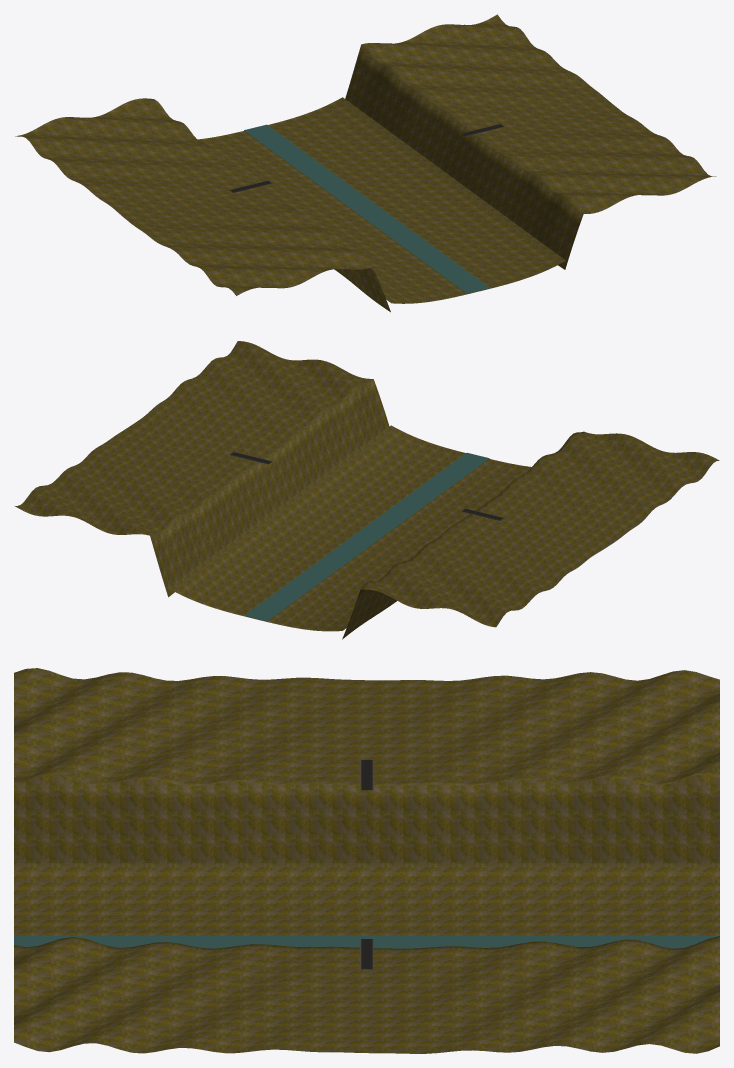
File: arch_standard.glb
3 views of the same model, one above another, from view 1: azimuth 30°, elevation 25°; view 2: azimuth 150°, elevation 25°; view 3: azimuth 270°, elevation 25° (orthographic). The views are drawn at different scales.
Parts seen in each view (by area): view 1: Riverbank_1, Riverbank_-1, CanyonRockFloor, RiverSurface; view 2: Riverbank_1, Riverbank_-1, CanyonRockFloor, RiverSurface; view 3: Riverbank_-1, Riverbank_1, CanyonRockFloor, RiverSurface.
Boxes of the visible parts, bbox=[...] form: Riverbank_1: bbox=[345, 14, 716, 269]; Riverbank_-1: bbox=[15, 98, 390, 312]; CanyonRockFloor: bbox=[197, 97, 565, 303]; RiverSurface: bbox=[244, 124, 489, 293]; Riverbank_1: bbox=[15, 341, 389, 597]; Riverbank_-1: bbox=[342, 431, 719, 639]; CanyonRockFloor: bbox=[169, 425, 531, 631]; RiverSurface: bbox=[244, 453, 489, 621]; Riverbank_-1: bbox=[14, 668, 719, 863]; Riverbank_1: bbox=[14, 936, 719, 1053]; CanyonRockFloor: bbox=[14, 863, 719, 935]; RiverSurface: bbox=[14, 935, 719, 948].
Size of the model in its own units: 1502 by 171 by 1196.
Materials: 4 (3 with a texture image).
